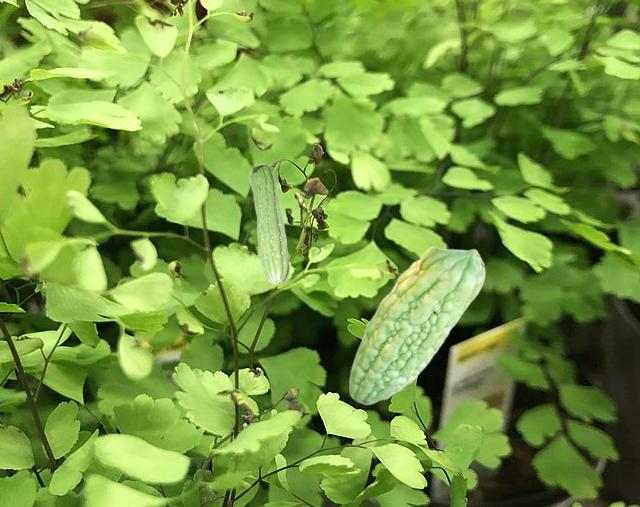ampalaya: (348, 245, 487, 406), (247, 162, 290, 286)
